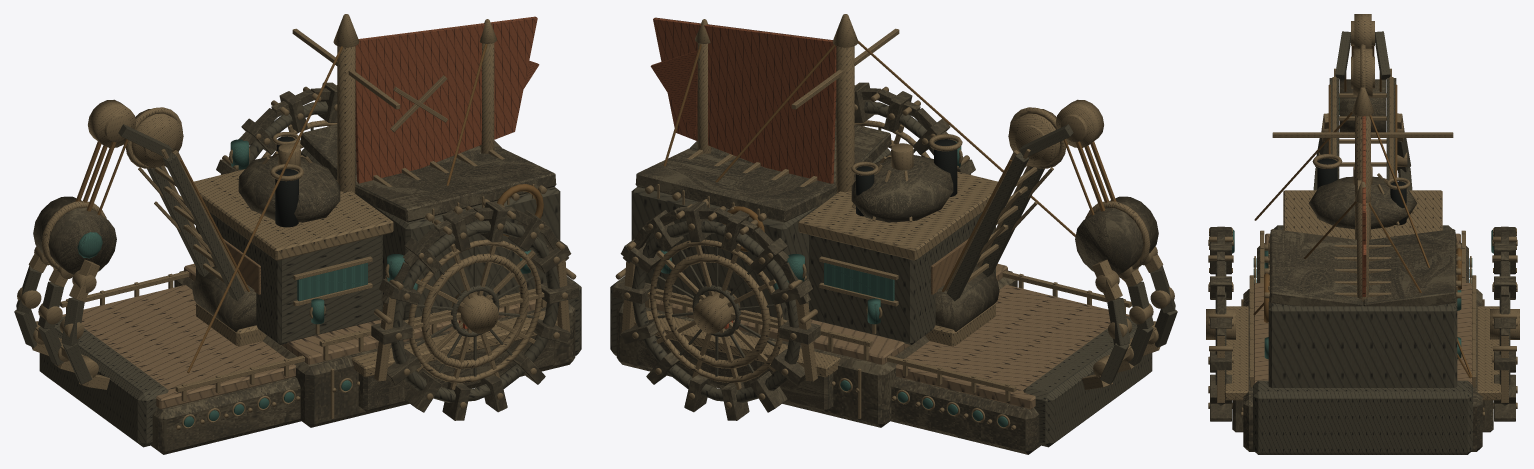
The model's file is dredge-queen-detail-sol.glb.
The picture shows the model from 3 angles, left to right: view 1: azimuth 30°, elevation 25°; view 2: azimuth 150°, elevation 25°; view 3: azimuth 270°, elevation 25°; orthographic projection. The views are drawn at different scales.
Visible parts, largest first — view 1: hold, claw, paddle_port, paddle_starboard; view 2: hold, claw, paddle_starboard, paddle_port; view 3: hold, claw, paddle_port, paddle_starboard.
Boxes of the visible parts, x1,y1,x2,y2 form: hold: (174,14,581,427); claw: (14,99,304,454); paddle_port: (351,201,578,420); paddle_starboard: (216,82,337,174); hold: (610,14,1124,427); claw: (887,99,1177,454); paddle_starboard: (613,201,840,420); paddle_port: (835,82,975,174); hold: (1241,87,1484,454); claw: (1253,14,1472,283); paddle_port: (1206,226,1248,432); paddle_starboard: (1477,226,1519,432).
Size of the model in its own units: 8 by 5.33 by 4.98.
Materials: 1 (1 with a texture image).
